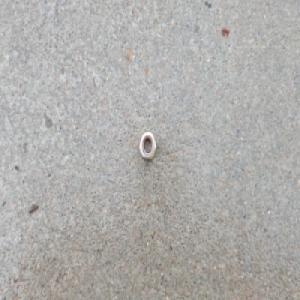Nut: (139, 129, 157, 161)
